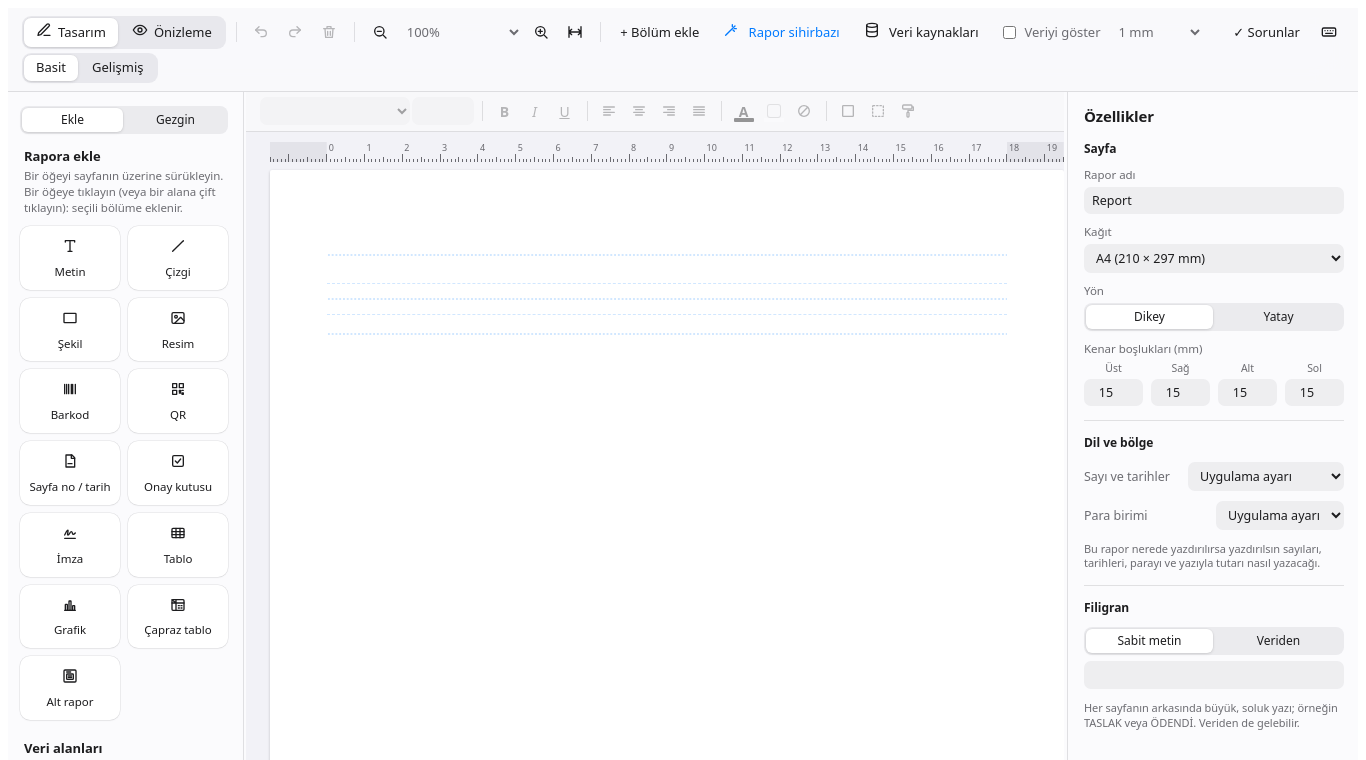
Scenario: WeReportDesignerComponent › builds a grouped, sorted list from the report wizard
Click the button with class "wd__magic": (781, 32) [713, 18, 850, 48]
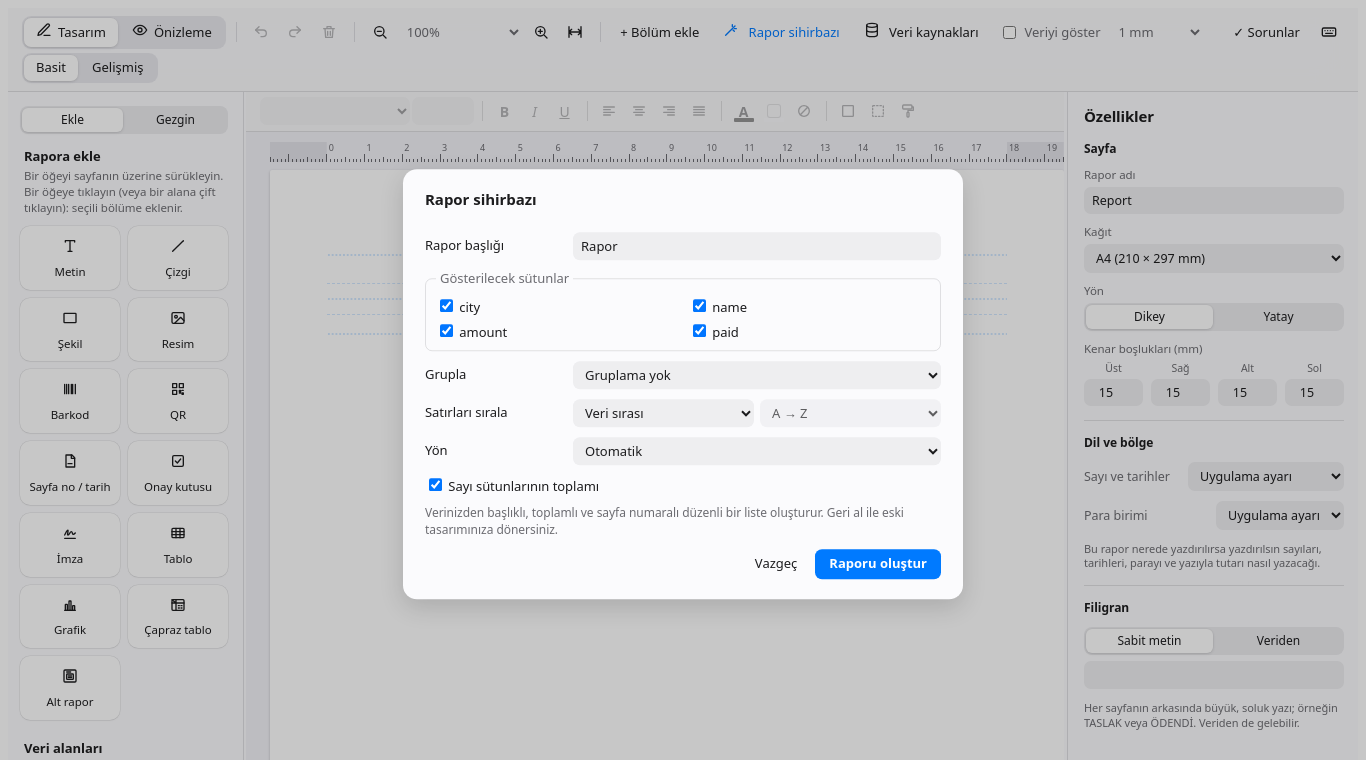
Select "city" in the dropdown labelled "Grupla": (757, 375) [573, 361, 941, 389]
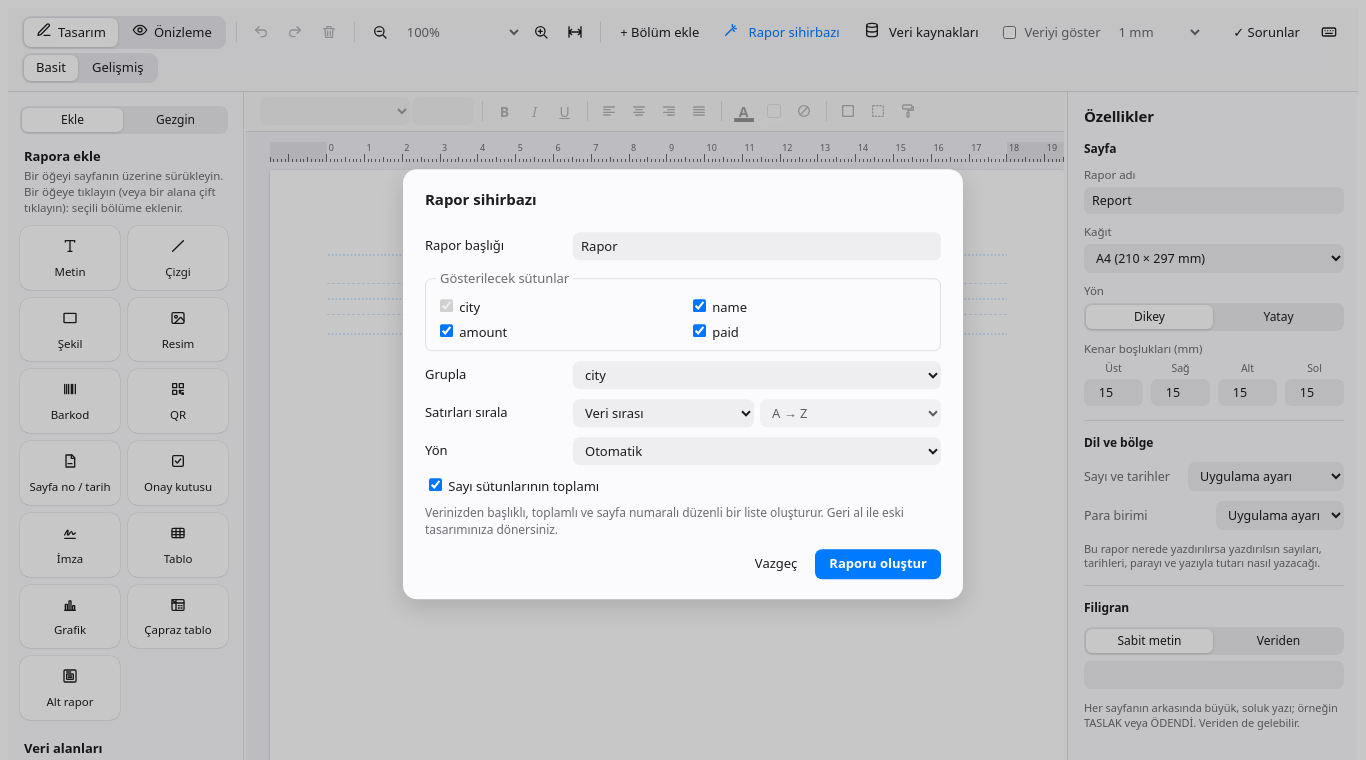
Select "amount" in the 1st dropdown named "Satırları sırala": (664, 413) [573, 399, 754, 427]
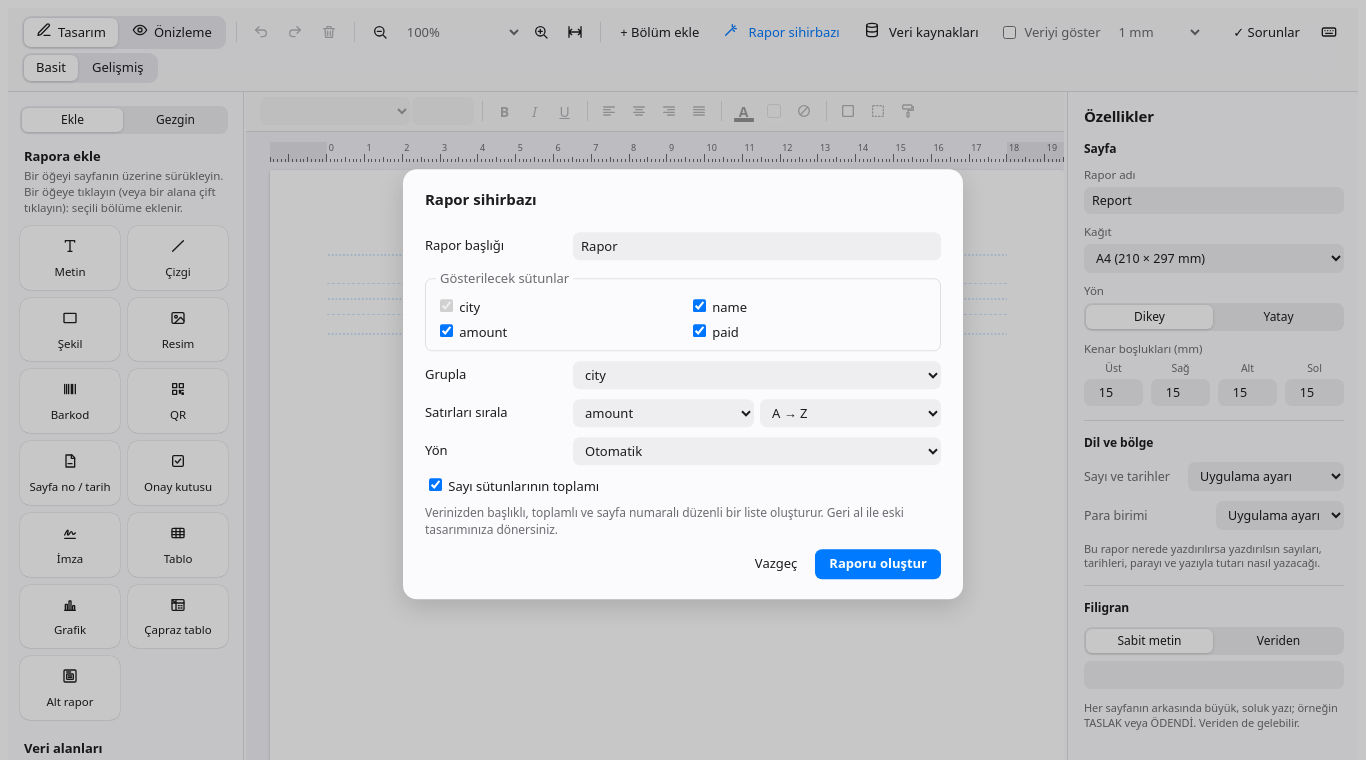
Select "Z → A" in the 2nd dropdown named "Satırları sırala": (850, 413) [760, 399, 941, 427]
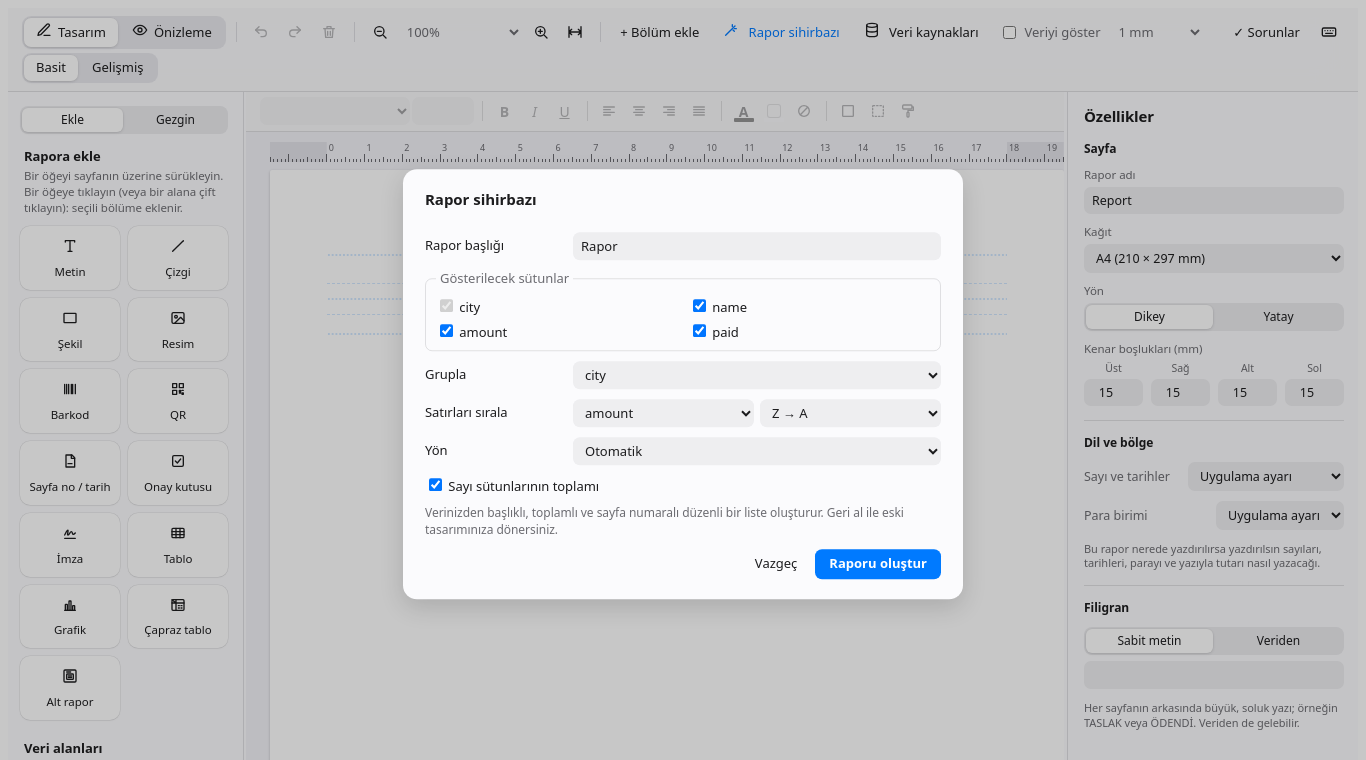
Result: the button with class "wd__primary" is enabled
Click the button with class "wd__primary": (878, 564) [815, 549, 941, 579]
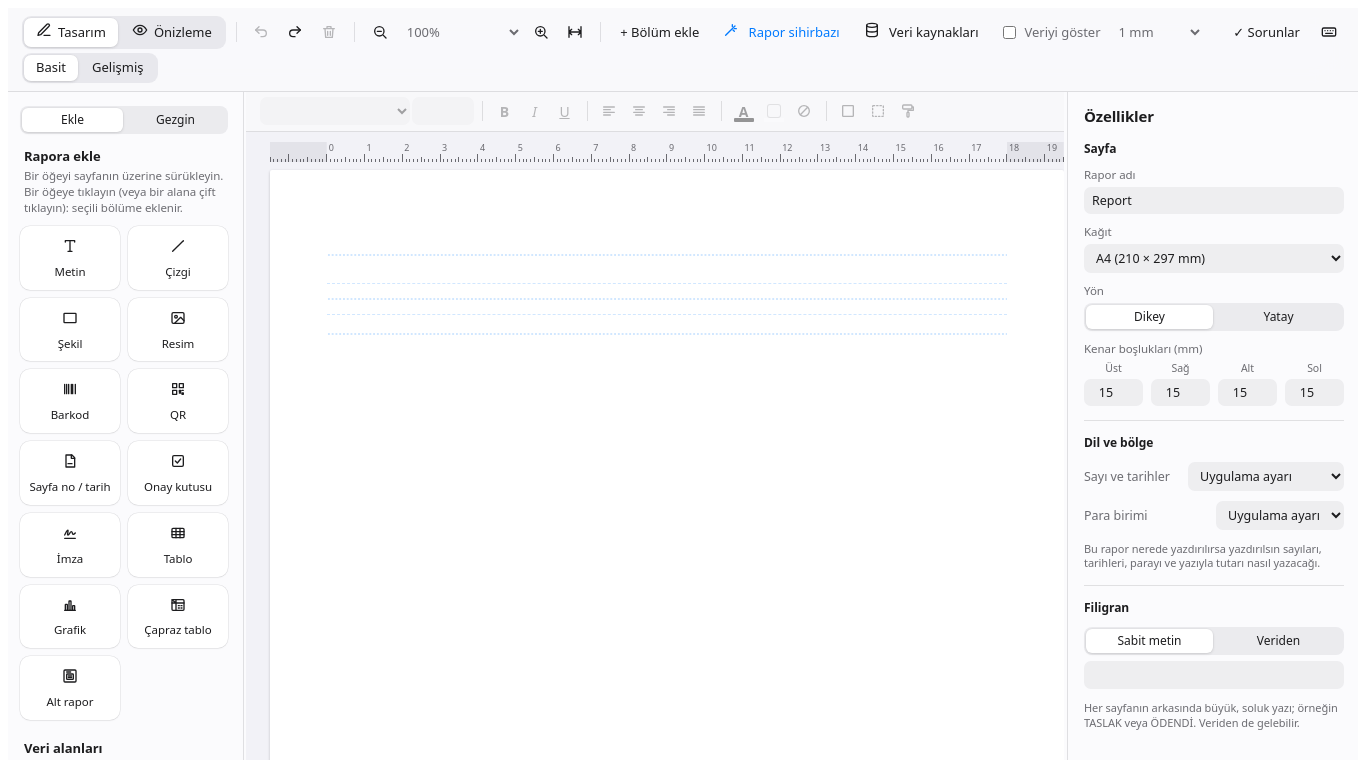
Result: the dialog with class "wd__wizard" is gone
